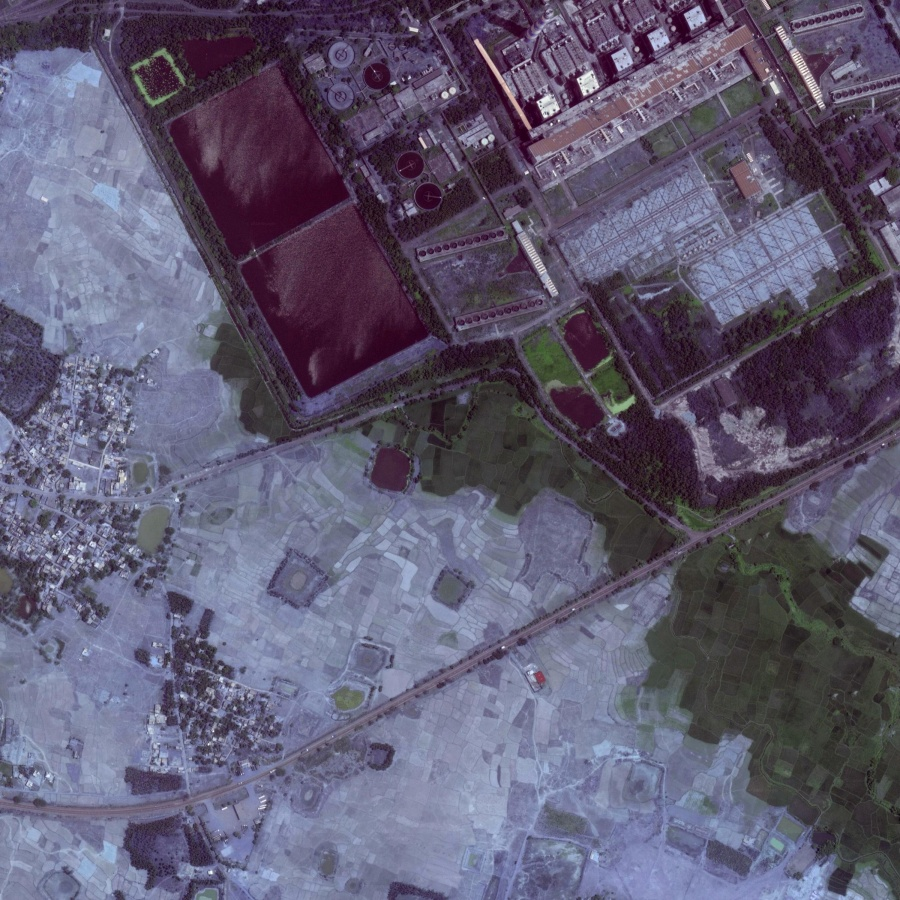PowerPlant: (140, 39, 502, 442)
